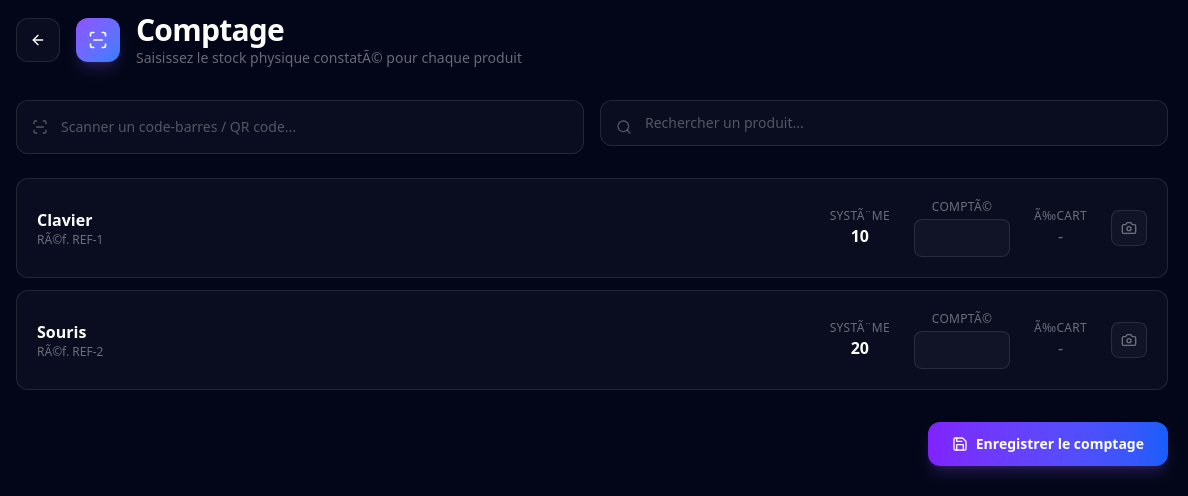
Comptage › filtre les lignes selon la recherche
Check: the text "Clavier" is shown, box [37,209,92,231]
Type "Souris" into the field with placeholder "Rechercher un produit..." at (884, 123), box [600,100,1168,146]
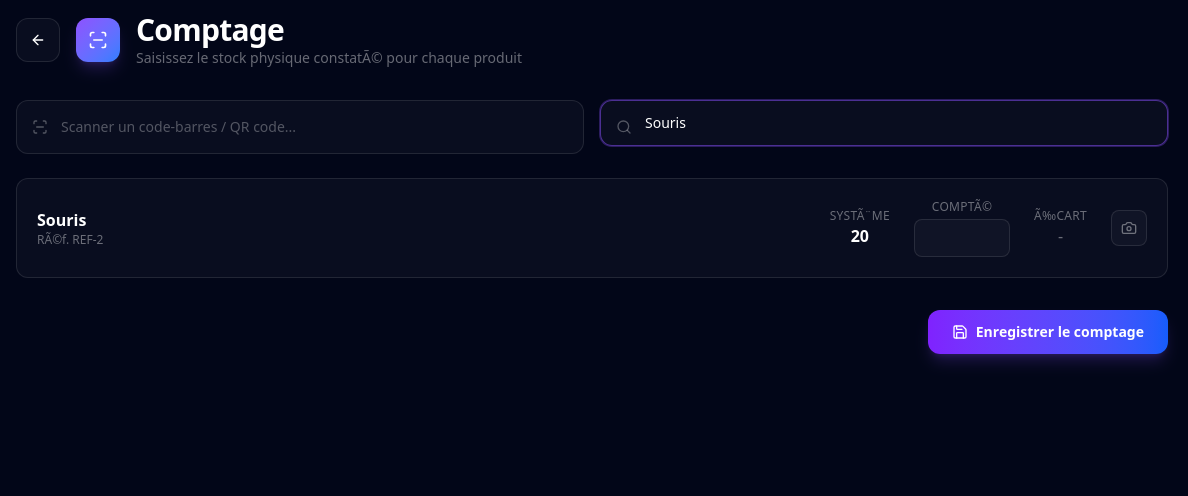
Check: the text "Souris" is shown, box [37,209,86,231]
Check: the text "Clavier" is gone
